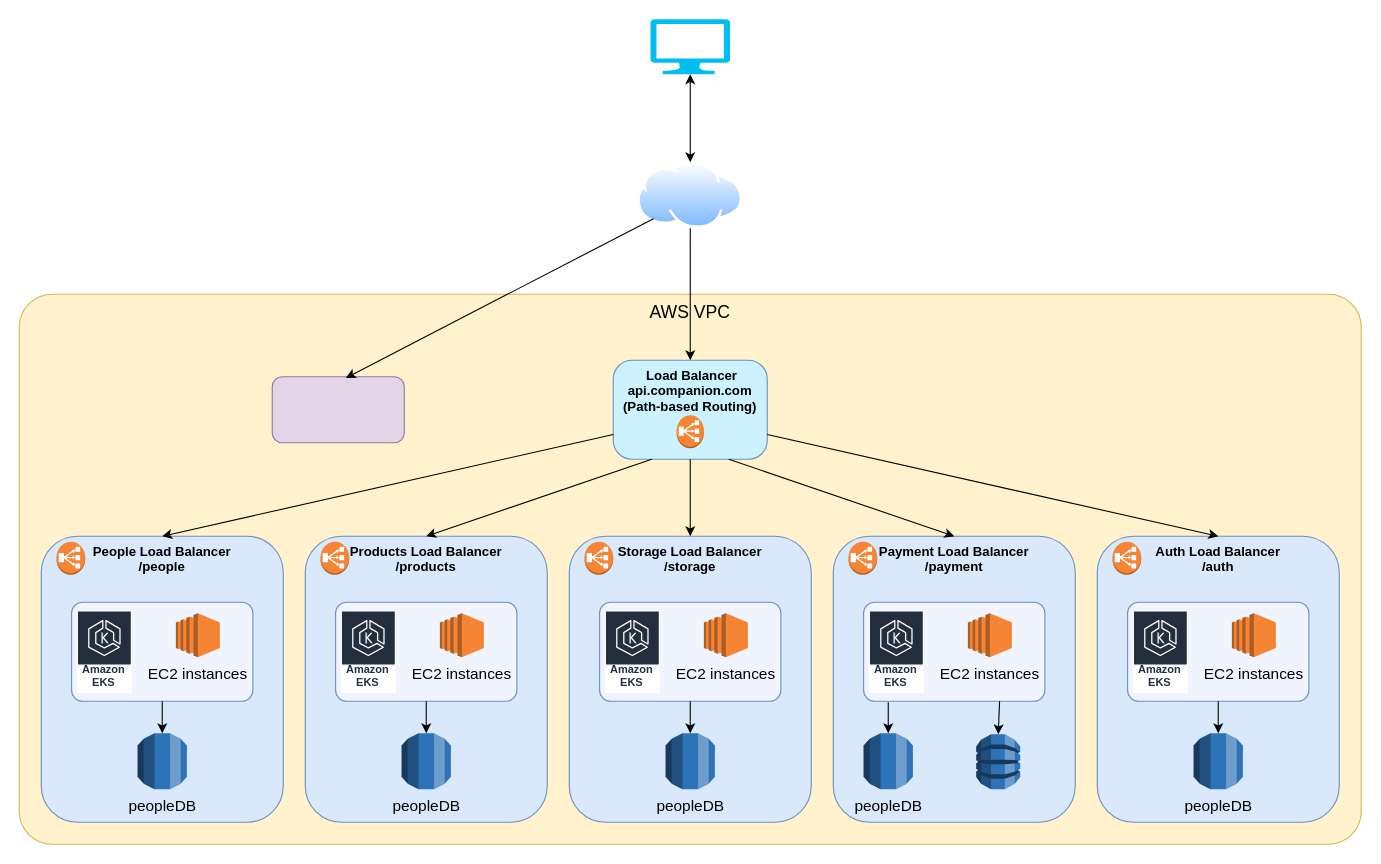
Some shapes in this 1381 by 864 pixel diagram are drawn without their labels. Each missing label, with the centre of its shape:
"Clients Web Browser" goes at (x=690, y=46).
"DynamoDB" goes at (x=997, y=761).
"Web App companion.com" goes at (x=337, y=409).
